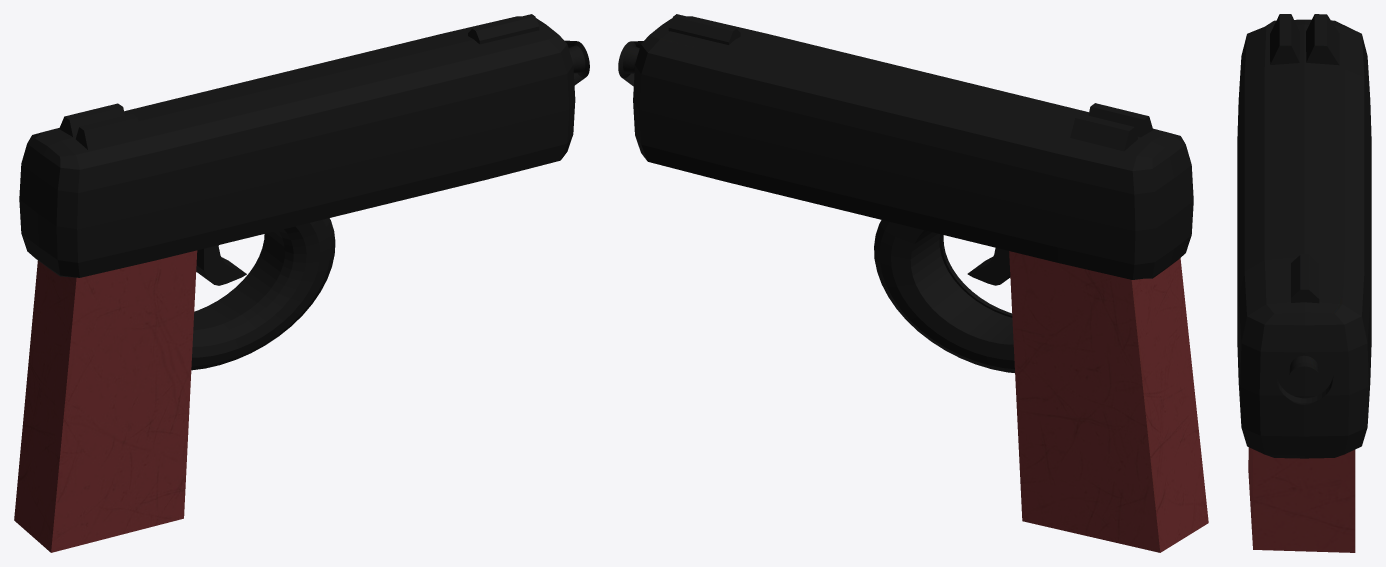
File: gun_b45efecf.glb
The picture shows the model from 3 angles, left to right: view 1: azimuth 30°, elevation 25°; view 2: azimuth 150°, elevation 25°; view 3: azimuth 270°, elevation 25°; orthographic projection. The views are drawn at different scales.
Visible parts, largest first — view 1: Cube, Cube.001, Cube.004; view 2: Cube, Cube.001, Cube.004; view 3: Cube, Cube.001, Cube.004.
Part boxes in pixels (x1,y1,x2,y2): Cube: [19, 16, 589, 277]; Cube.001: [14, 218, 335, 552]; Cube.004: [59, 14, 539, 149]; Cube: [618, 16, 1193, 279]; Cube.001: [874, 220, 1208, 552]; Cube.004: [668, 14, 1153, 151]; Cube: [1237, 19, 1371, 458]; Cube.001: [1248, 447, 1355, 552]; Cube.004: [1270, 14, 1339, 303].
Size of the model in its own units: 772 by 536 by 135.
Materials: 1 (1 with a texture image).
